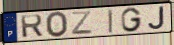G: (120, 7, 143, 33)
I: (107, 8, 114, 34)
J: (147, 5, 166, 30)
O: (45, 11, 69, 39)
R: (20, 14, 44, 39)
Z: (70, 10, 94, 36)
